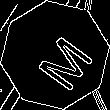M_NW: (21, 22, 89, 88)
